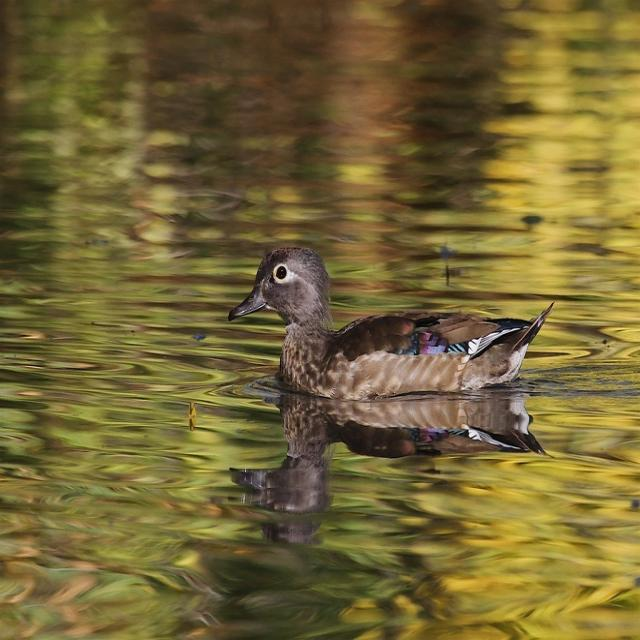bird: (226, 231, 560, 394)
